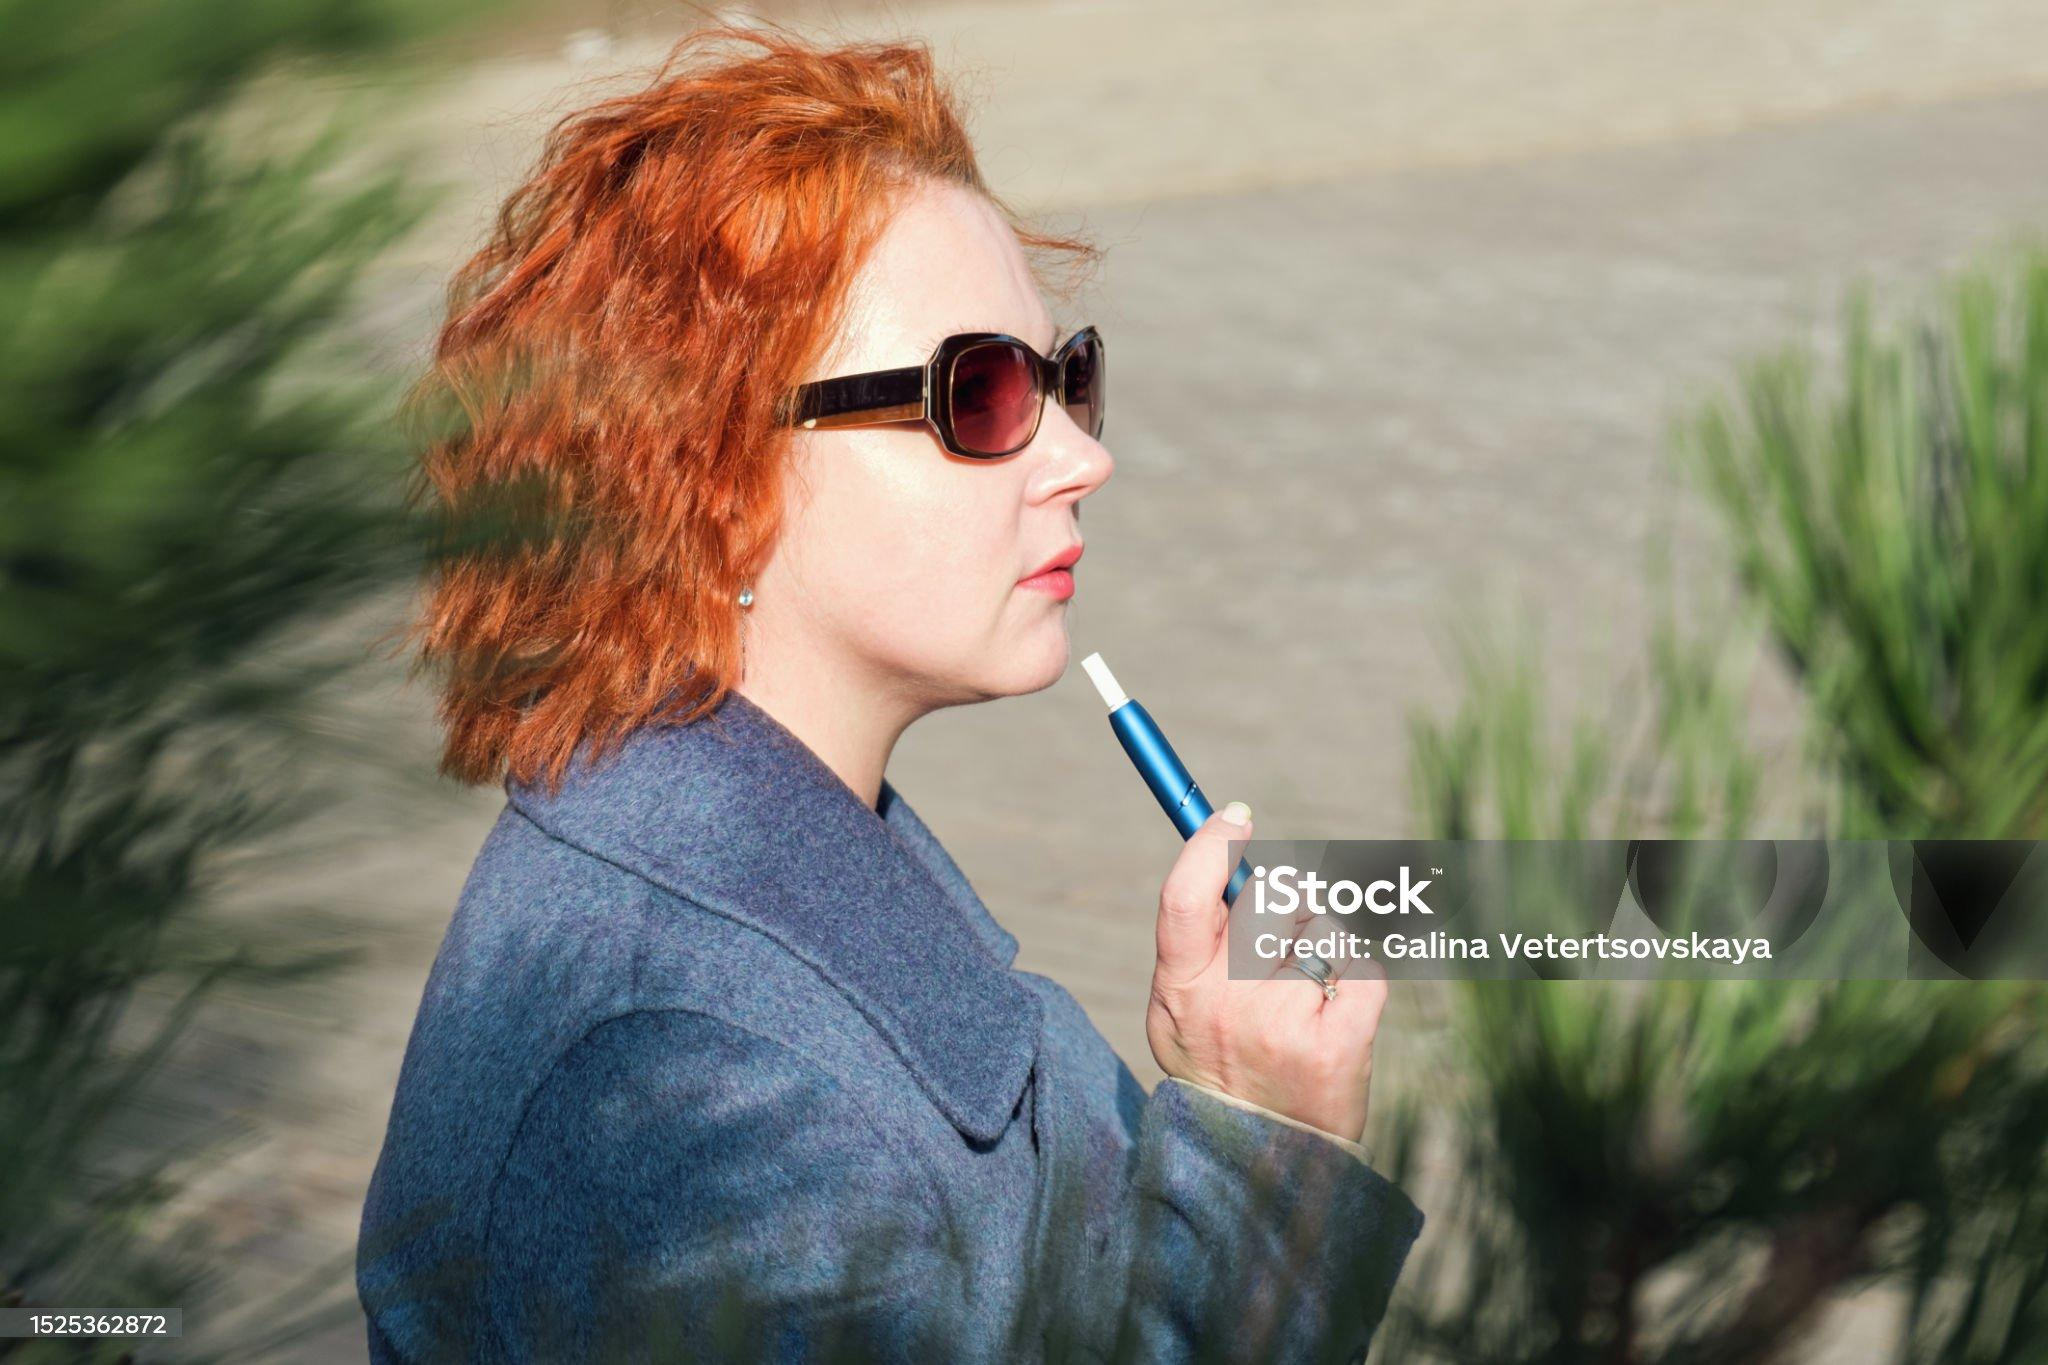iqos: (1080, 647, 1256, 905)
